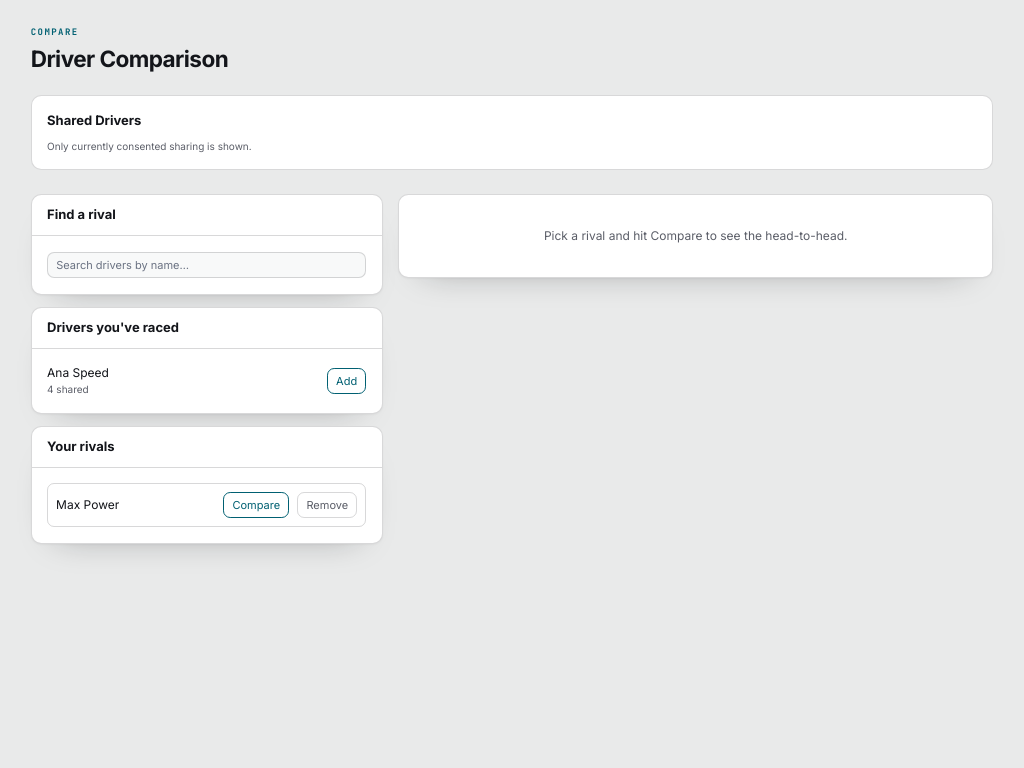
ComparePage › cannot revive a removed pending comparison after late success
What coordinates should you click on to do the following:
click the button with aria-label "compare against max power"
I would click on:
 (256, 505)
Its box is [223, 492, 289, 518].
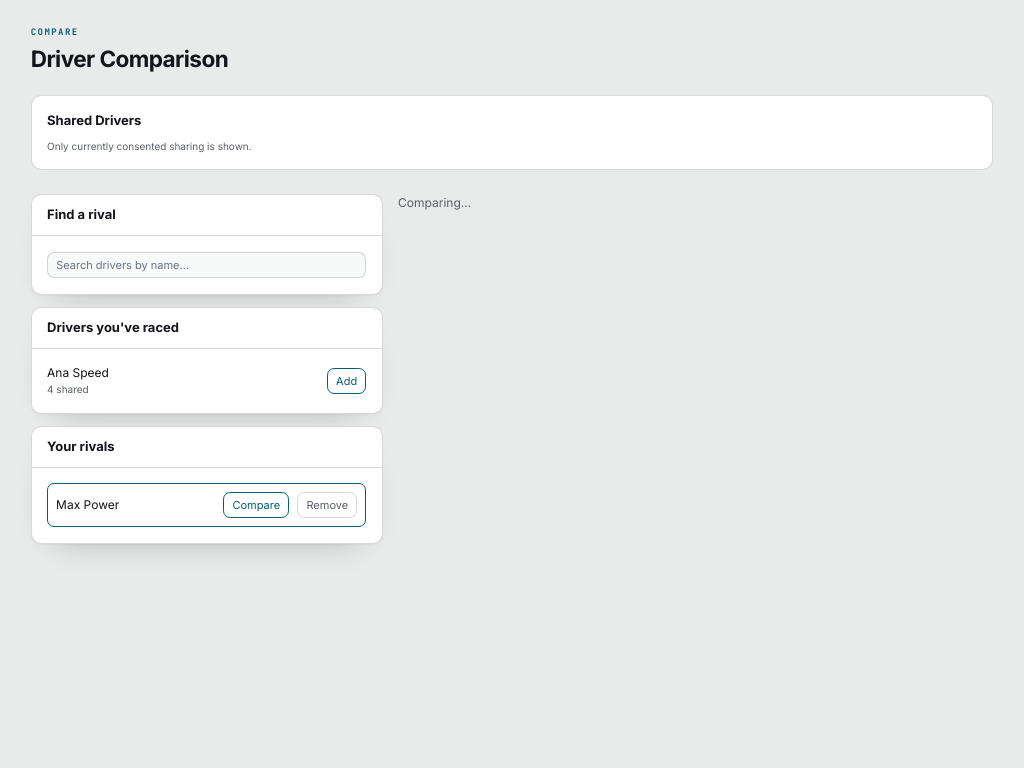
What coordinates should you click on to do the following:
click the button with aria-label "remove max power"
I would click on:
 (327, 505)
Its box is [297, 492, 357, 518].
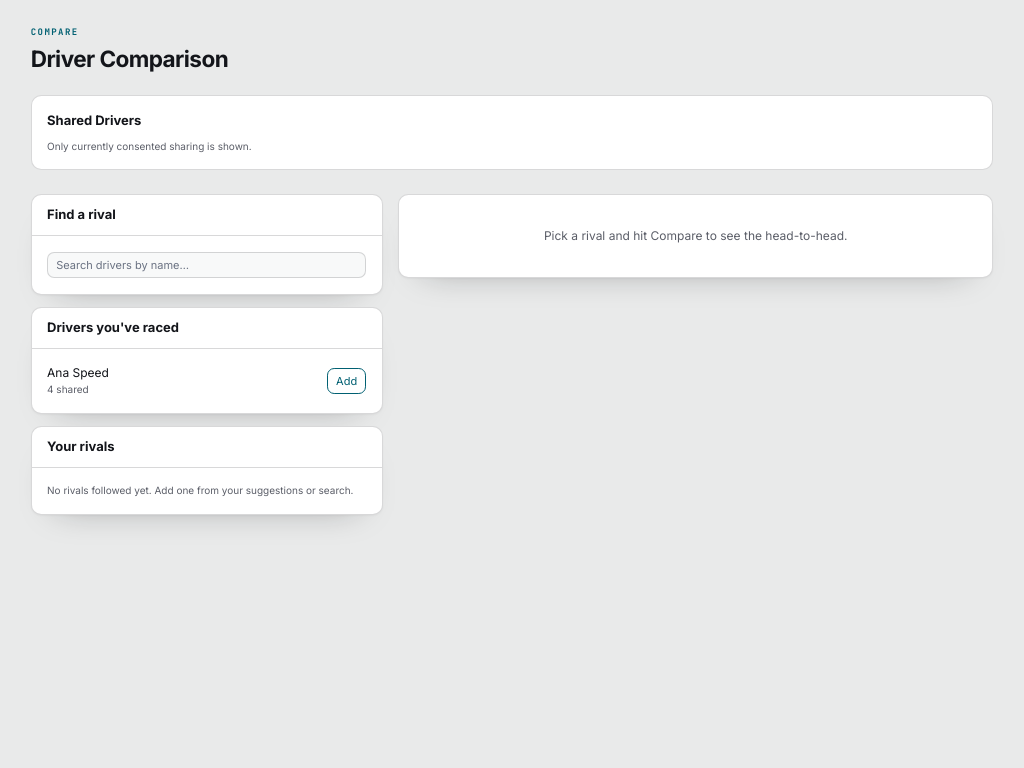
expect the text "Pick a rival and hit Compare to see the head-to-head." is shown: met, box [398, 194, 993, 278]
